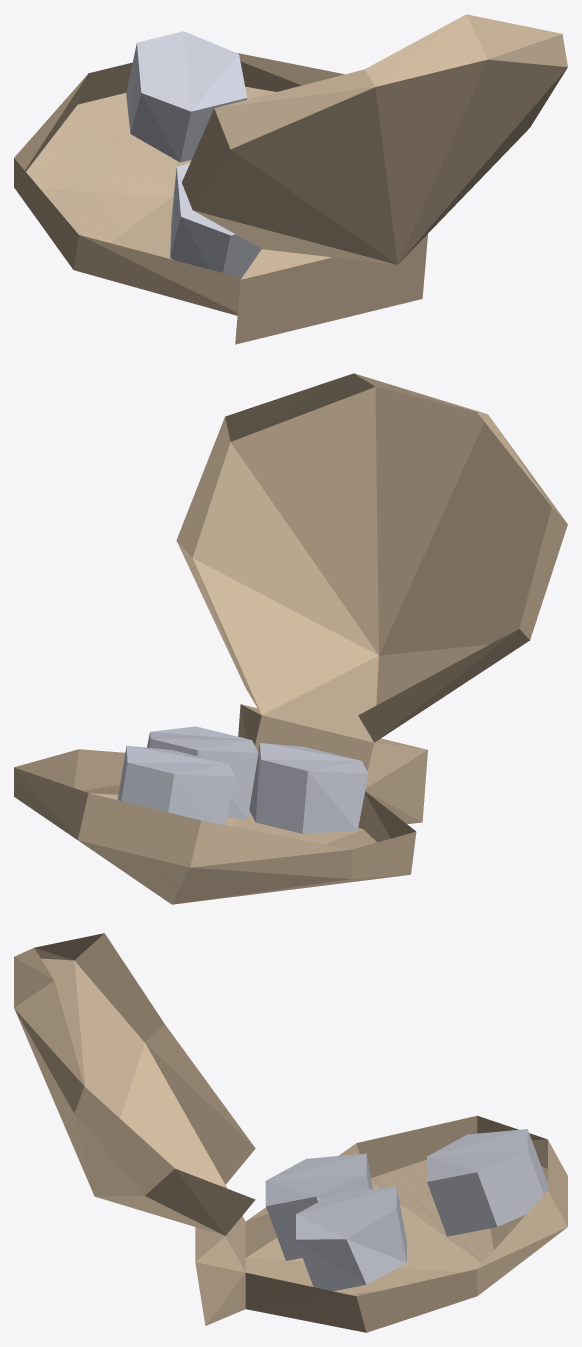
Rendered from inv_oyster_pearls.obj.
3 views of the same model, one above another, from view 1: azimuth 30°, elevation 25°; view 2: azimuth 150°, elevation 25°; view 3: azimuth 270°, elevation 25° (orthographic). The views are drawn at different scales.
Bounding box in the file's own units: 0.2812 × 0.2812 × 0.4297.
